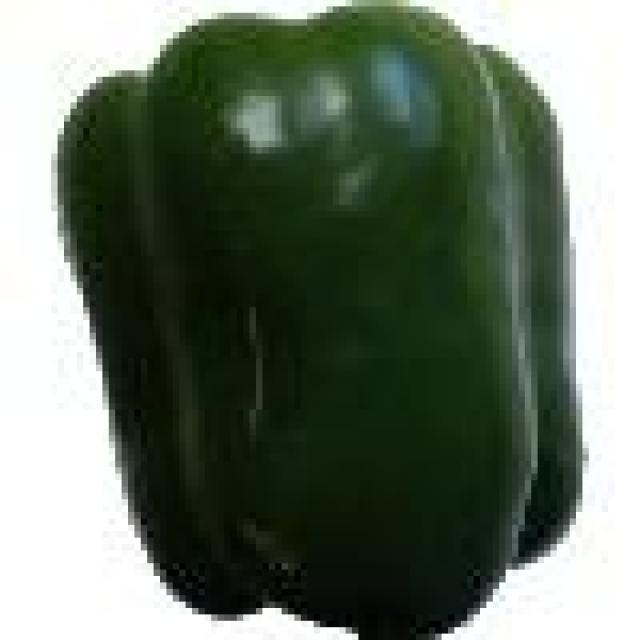Bell Pepper: (64, 6, 576, 634)
